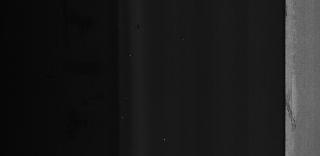water spot: (286, 91, 306, 133)
